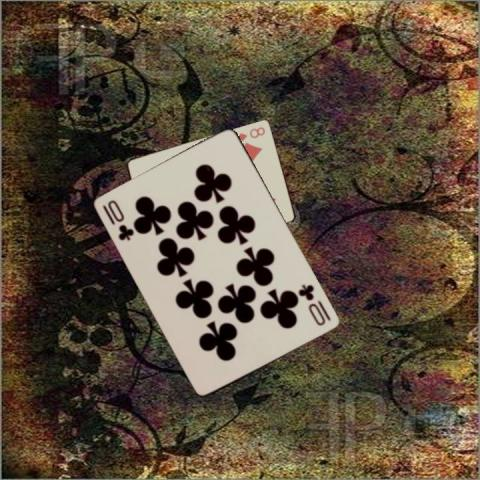10c: (295, 282, 333, 328), (99, 196, 136, 243)
8d: (233, 123, 267, 142)
